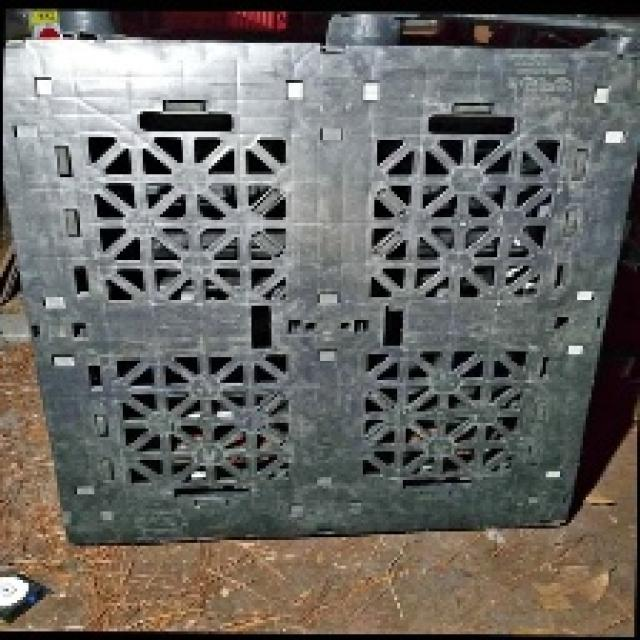igps: (0, 32, 640, 550)
